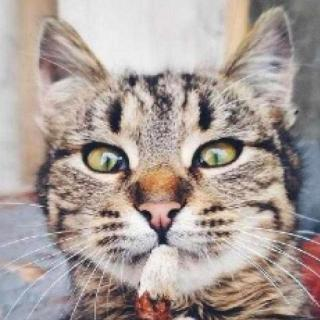cat: (28, 18, 312, 300)
nose: (131, 181, 196, 238)
